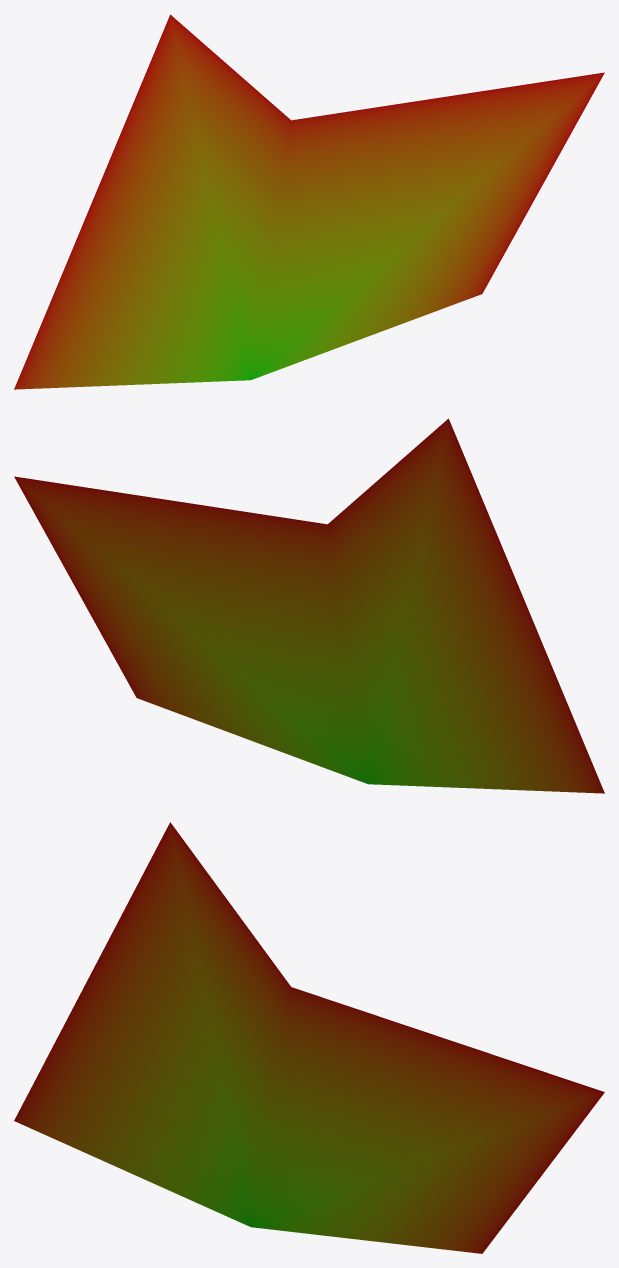
File: Var13_LOD3.fbx
3 views of the same model, one above another, from view 1: azimuth 30°, elevation 25°; view 2: azimuth 150°, elevation 25°; view 3: azimuth 330°, elevation 25° (orthographic).
Parts seen in each view (by area): view 1: _t771_Var13_LOD3; view 2: _t771_Var13_LOD3; view 3: _t771_Var13_LOD3.
Part boxes in pixels (<box>): _t771_Var13_LOD3: <box>14,14,604,389</box>; _t771_Var13_LOD3: <box>14,418,604,793</box>; _t771_Var13_LOD3: <box>14,822,604,1253</box>.
Bounding box in the file's own units: 15.69 × 9.78 × 1.82e-12.
